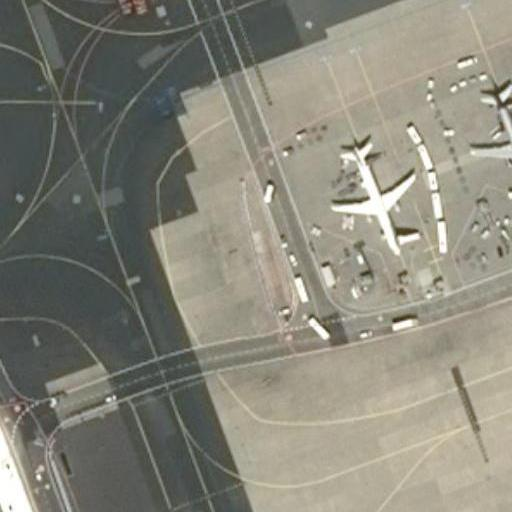Aircraft: (327, 139, 417, 258), (462, 82, 512, 198)
